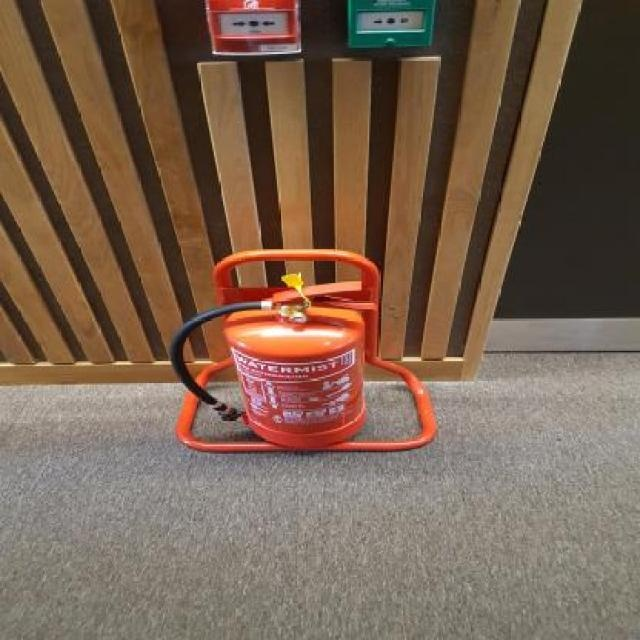fire extinguisher: (166, 279, 380, 446)
